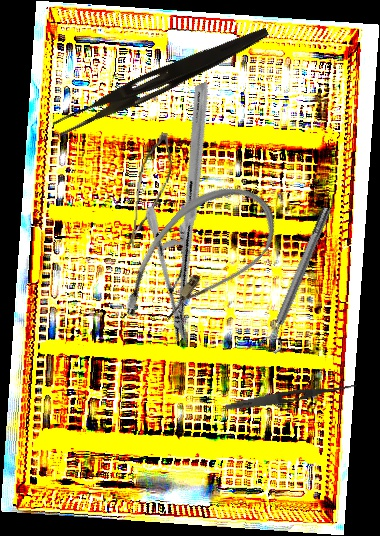Cannula: (106, 162, 291, 357)
Dressing Forceps: (52, 15, 272, 145), (223, 378, 359, 414)
Fixation Ring: (256, 203, 340, 356)
Micro Scissor: (126, 129, 175, 255)
Needle Holder: (83, 81, 298, 342)
